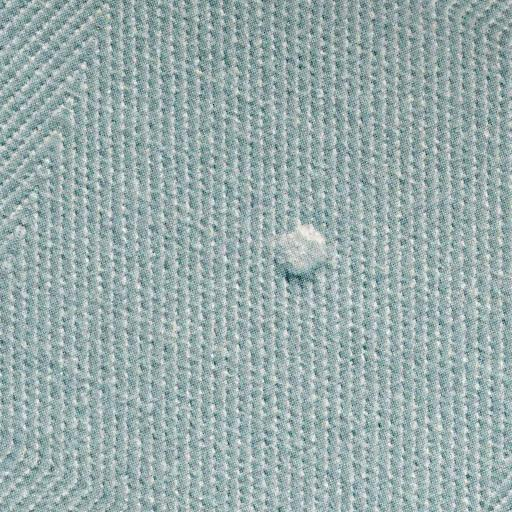knot: (264, 216, 335, 289)
